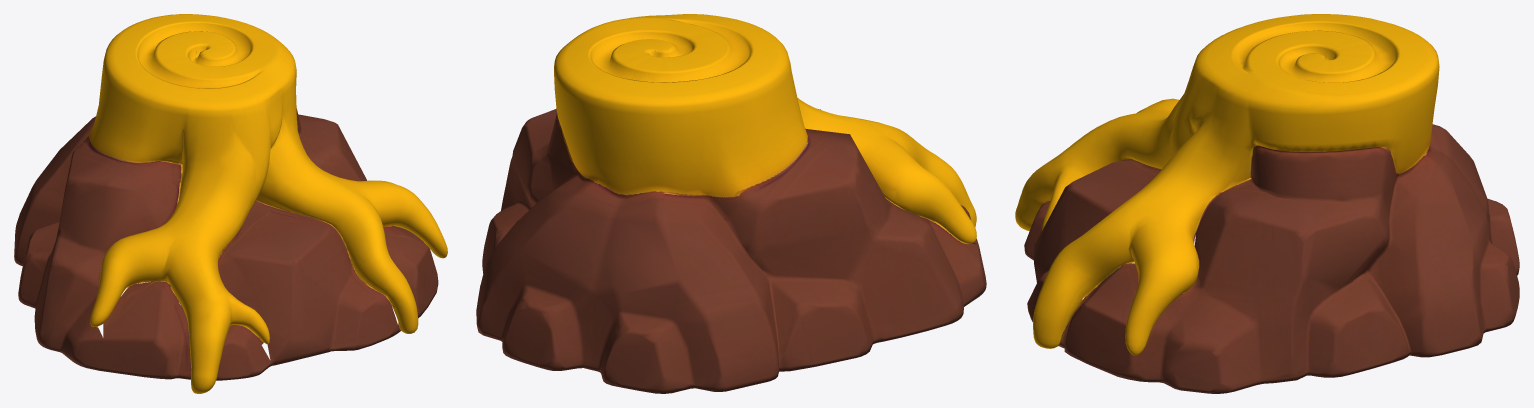
File: mark_guts.glb
3 views of the same model, side by side, from view 1: azimuth 30°, elevation 25°; view 2: azimuth 150°, elevation 25°; view 3: azimuth 270°, elevation 25° (orthographic). The views are drawn at different scales.
Parts seen in each view (by area): view 1: tripo_node_54cc4930-1176-4c94-85d9-dd74d71a2941; view 2: tripo_node_54cc4930-1176-4c94-85d9-dd74d71a2941; view 3: tripo_node_54cc4930-1176-4c94-85d9-dd74d71a2941.
Boxes of the visible parts, x1=… form: tripo_node_54cc4930-1176-4c94-85d9-dd74d71a2941: x1=14, y1=14, x2=447, y2=393; tripo_node_54cc4930-1176-4c94-85d9-dd74d71a2941: x1=476, y1=14, x2=986, y2=393; tripo_node_54cc4930-1176-4c94-85d9-dd74d71a2941: x1=1015, y1=14, x2=1519, y2=393.
Bounding box in the file's own units: 0.9995 × 0.5483 × 0.9976.
1 material, 1 textured.
